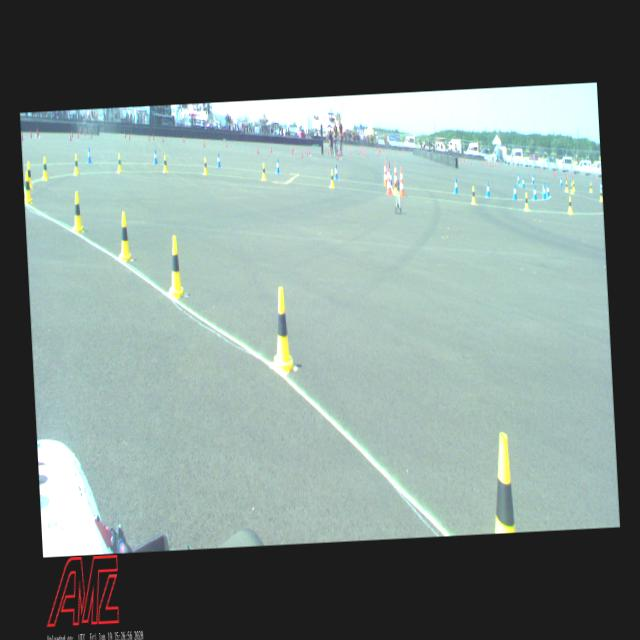blue_cone: (452, 178, 459, 195), (216, 153, 222, 168), (512, 184, 517, 200), (87, 148, 92, 164), (153, 150, 158, 164), (486, 182, 490, 198), (276, 158, 280, 174), (533, 185, 537, 200), (334, 165, 338, 180), (546, 184, 550, 197), (542, 181, 546, 194), (516, 174, 520, 184), (542, 188, 546, 198), (390, 168, 392, 185), (522, 177, 525, 188), (600, 182, 602, 192), (532, 174, 534, 183), (560, 178, 562, 186)
large_orange_cone: (398, 166, 406, 196), (386, 166, 392, 194), (382, 161, 388, 186), (393, 162, 398, 187)
unknown_cone: (257, 146, 259, 154), (306, 148, 308, 156), (270, 146, 272, 154), (203, 140, 205, 148), (309, 148, 310, 156), (292, 148, 293, 155), (293, 146, 294, 152), (226, 142, 227, 148)
yellow_cone: (490, 432, 516, 534), (270, 287, 296, 375), (167, 235, 184, 298), (118, 211, 132, 260), (70, 192, 84, 234), (22, 172, 32, 204), (41, 156, 49, 180), (72, 154, 80, 174), (26, 162, 32, 188), (162, 155, 168, 173), (116, 154, 122, 172), (470, 186, 476, 204), (568, 196, 574, 213), (392, 179, 398, 195), (524, 192, 529, 211), (261, 162, 266, 180), (203, 157, 208, 175), (330, 170, 334, 188), (599, 190, 603, 202), (570, 182, 574, 194), (564, 181, 568, 192), (572, 181, 574, 191), (590, 182, 592, 192)
